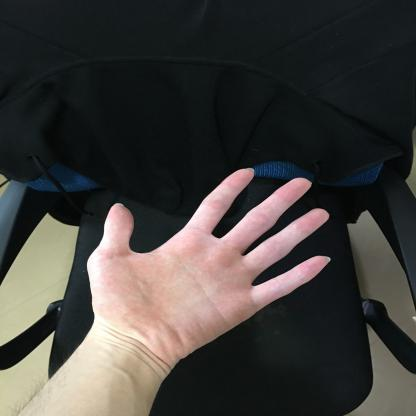bare_hand: (78, 157, 340, 368)
